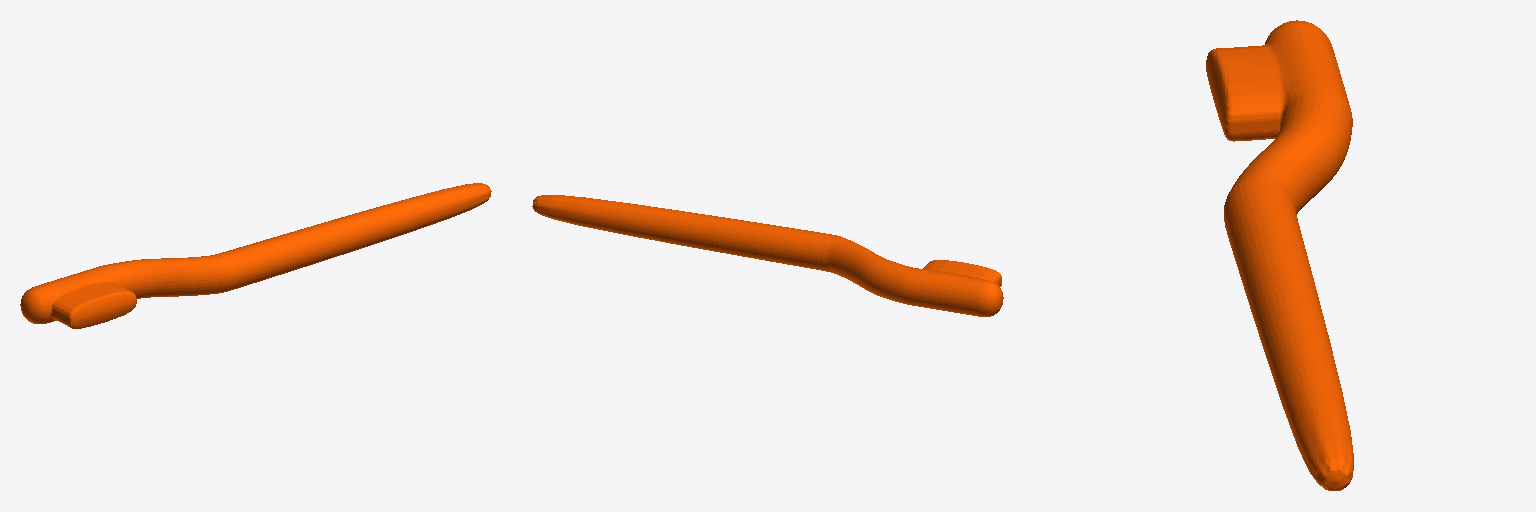
URDF robot description (toothbrush):
<?xml version="1.0" ?>
<robot name="toothbrush">
   <material name="obj_color">
      <color rgba="1.0 0.423529411765 0.0392156862745 1.0"/>
   </material>
   <link name="top">
      <inertial>
         <origin rpy="9.591961956785078e-07 6.795045367269559e-05 6.840921940965974e-05" xyz="-0.01406826951376253 0.001551653384368577 -0.0003181123218766895"/>
         <mass value="0.03346152545134308"/>
         <inertia ixx="1.025897954154894e-06" ixy="-1.976483445146602e-06" ixz="7.49215600710976e-07" iyy="6.789208222520956e-05" iyz="2.196906828751169e-08" izz="6.840088909866933e-05"/>
      </inertial>
      <visual>
         <origin rpy="0 0 0" xyz="0 0 0"/>
         <geometry>
            <mesh filename="top_watertight_tiny.stl" scale="1 1 1"/>
         </geometry>
         <material name="obj_color"/>
      </visual>
      <collision>
         <origin rpy="0 0 0" xyz="0 0 0"/>
         <geometry>
            <mesh filename="top_watertight_tiny.obj" scale="1 1 1"/>
         </geometry>
      </collision>
   </link>
   <link name="bottom">
      <inertial>
         <origin rpy="1.633333333194242e-08 1.633333333194243e-08 1.633333333357667e-08" xyz="0.3464080000000008 0.3464080000000008 0.3464080000000008"/>
         <mass value="0.0009800000000000017"/>
         <inertia ixx="1.633333333248717e-08" ixy="5.447480642029219e-19" ixz="5.447480642029219e-19" iyy="1.633333333248717e-08" iyz="5.447480642029219e-19" izz="1.633333333248717e-08"/>
      </inertial>
      <visual>
         <origin rpy="0 0 0" xyz="0 0 0"/>
         <geometry>
            <mesh filename="bottom_watertight_tiny.stl" scale="1 1 1"/>
         </geometry>
         <material name="obj_color"/>
      </visual>
   </link>
   <joint name="rotation" type="revolute">
      <origin xyz="0 0 0"/>
      <axis xyz="0 0 -1"/>
      <parent link="bottom"/>
      <child link="top"/>
      <dynamics damping="1.0" friction="1.0"/>
      <limit effort="0.1" velocity="0.1" lower="0" upper="0.001"/>
   </joint>
</robot>

--- Render facts (derived) ---
3 views of the same robot in one strip: view 1: azimuth 30°, elevation 25°; view 2: azimuth 150°, elevation 25°; view 3: azimuth 270°, elevation 25° (orthographic).
Model toothbrush with 2 links and 1 joints (1 revolute), rooted at bottom, posed every joint at zero.
Visible links, largest first — view 1: top; view 2: top; view 3: top.
Link boxes in pixels (<box>): top: <box>20,183,491,328</box>; top: <box>532,195,1003,316</box>; top: <box>1206,20,1353,490</box>.
Size in the robot's own frame: 0.1649 by 0.0241 by 0.0124 metres.
1 mesh visuals loaded from 2 distinct referenced files (1 binary STL); not drawn: 1 (reference not matched to a file when rendering).
